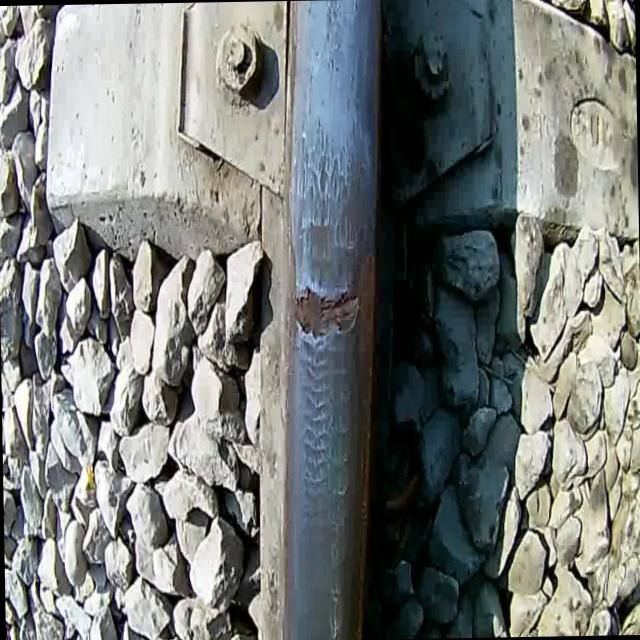Cracks: (320, 531, 344, 640)
Spallings: (288, 282, 366, 344)
Squats: (292, 112, 373, 294), (292, 327, 359, 540)
